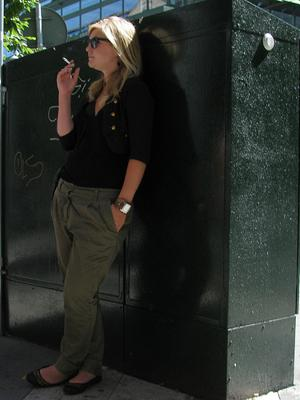person: (20, 14, 153, 393)
